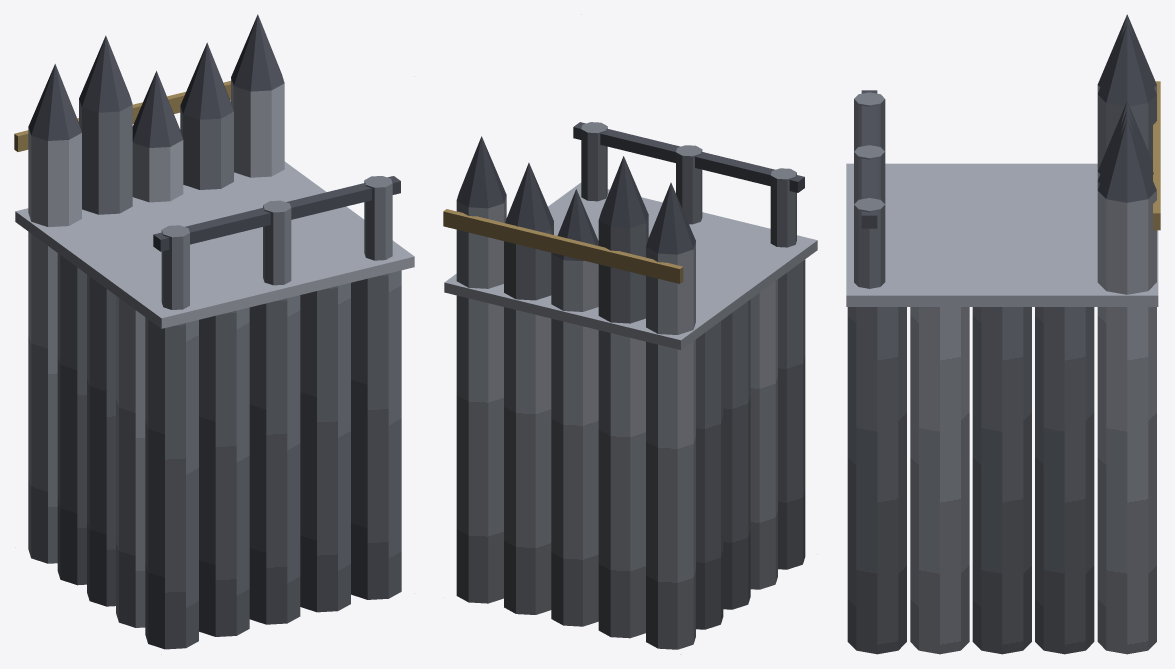
File: perimeter_wall_metal_f10.glb
3 views of the same model, side by side, from view 1: azimuth 30°, elevation 25°; view 2: azimuth 150°, elevation 25°; view 3: azimuth 270°, elevation 25° (orthographic). The views are drawn at different scales.
Bounding box in the file's own units: 2 × 3.9 × 2.01.
Materials: 1 (1 with a texture image).
